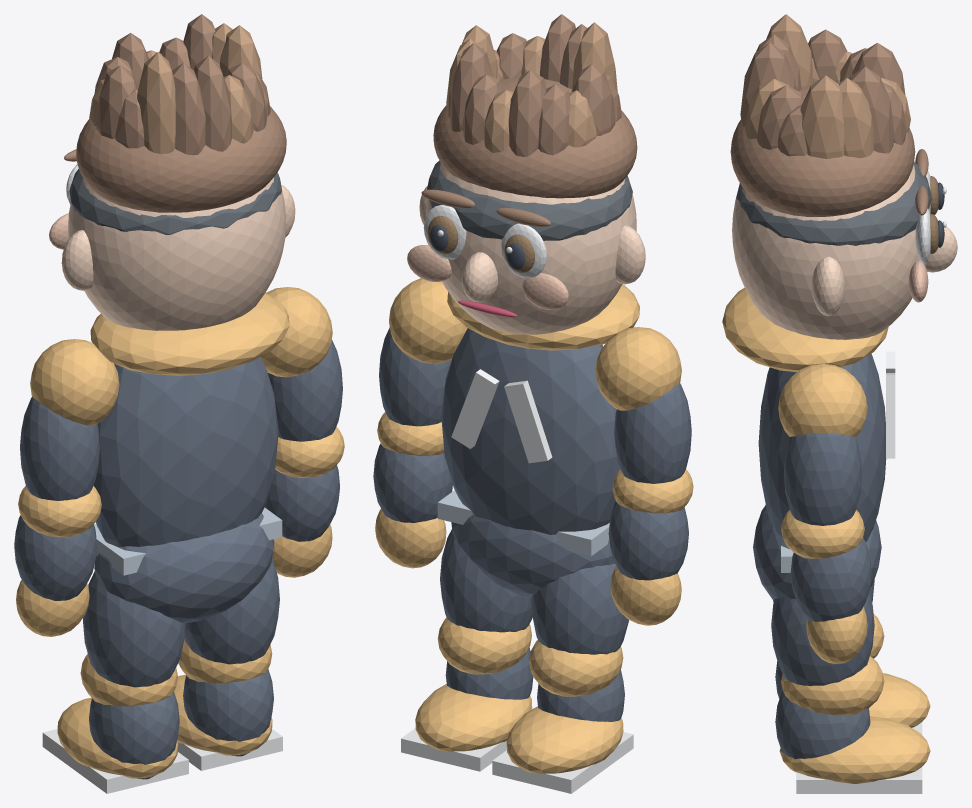
Rendered from villano_no_letal.glb.
3 renders of one model, left to right at view 1: azimuth 30°, elevation 25°; view 2: azimuth 150°, elevation 25°; view 3: azimuth 270°, elevation 25°, orthographic. The views are drawn at different scales.
Parts seen in each view (by area): view 1: Torso_1, Head_3, HairBase_40, Hip_2, HoodCollar_57, Thigh_16, UpperArm_12, Shoulder_11, Thigh_33, Calf_18, Calf_35, Forearm_14 (+27 smaller); view 2: Torso_1, Head_3, HairBase_40, Hip_2, Thigh_16, UpperArm_12, EnemyMask_61, Foot_19, Shoulder_11, Foot_36, Thigh_33, Forearm_14 (+40 smaller); view 3: Head_3, HairBase_40, Torso_1, UpperArm_29, HoodCollar_57, Foot_36, Shoulder_28, EnemyMask_61, Forearm_31, Thigh_33, Calf_35, Knee_34 (+22 smaller).
Boxes of the visible parts, left/top/right/bottom form: Torso_1: left=93, top=357, right=278, bottom=547; Head_3: left=68, top=177, right=285, bottom=330; HairBase_40: left=76, top=106, right=286, bottom=212; Hip_2: left=94, top=513, right=274, bottom=622; HoodCollar_57: left=90, top=293, right=289, bottom=375; Thigh_16: left=83, top=571, right=185, bottom=687; UpperArm_12: left=20, top=396, right=99, bottom=500; Shoulder_11: left=30, top=339, right=119, bottom=425; Thigh_33: left=184, top=557, right=279, bottom=664; Calf_18: left=89, top=692, right=179, bottom=779; Calf_35: left=183, top=669, right=273, bottom=756; Forearm_14: left=14, top=515, right=96, bottom=600; Torso_1: left=441, top=328, right=620, bottom=534; Head_3: left=425, top=163, right=636, bottom=334; HairBase_40: left=433, top=76, right=637, bottom=198; Hip_2: left=451, top=514, right=614, bottom=597; Thigh_16: left=531, top=563, right=628, bottom=654; UpperArm_12: left=614, top=383, right=691, bottom=483; EnemyMask_61: left=427, top=160, right=632, bottom=240; Foot_19: left=506, top=706, right=623, bottom=773; Shoulder_11: left=595, top=327, right=681, bottom=410; Foot_36: left=415, top=684, right=532, bottom=751; Thigh_33: left=440, top=529, right=532, bottom=632; Forearm_14: left=608, top=501, right=688, bottom=580; Head_3: left=732, top=165, right=926, bottom=339; HairBase_40: left=730, top=83, right=915, bottom=216; Torso_1: left=758, top=353, right=886, bottom=541; UpperArm_29: left=783, top=433, right=861, bottom=525; HoodCollar_57: left=722, top=288, right=888, bottom=371; Foot_36: left=779, top=716, right=930, bottom=783; Shoulder_28: left=778, top=364, right=867, bottom=436; EnemyMask_61: left=736, top=162, right=931, bottom=245; Forearm_31: left=790, top=537, right=871, bottom=621; Thigh_33: left=771, top=593, right=874, bottom=685; Calf_35: left=775, top=690, right=870, bottom=759; Knee_34: left=781, top=656, right=884, bottom=715.
Bounding box in the file's own units: 1.27 × 2.85 × 0.842.
